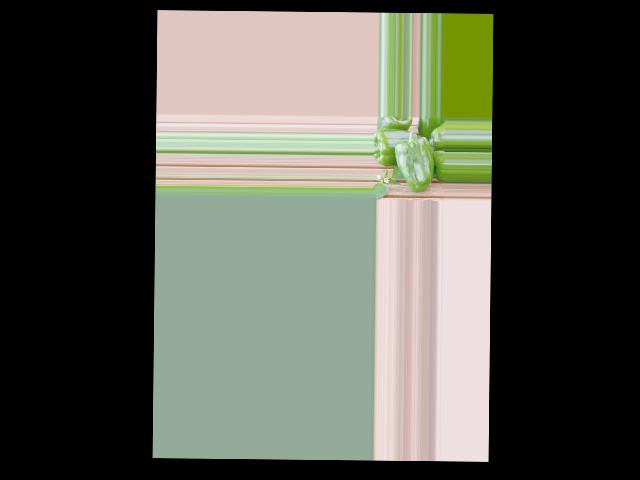bell_pepper: (427, 120, 446, 146)
